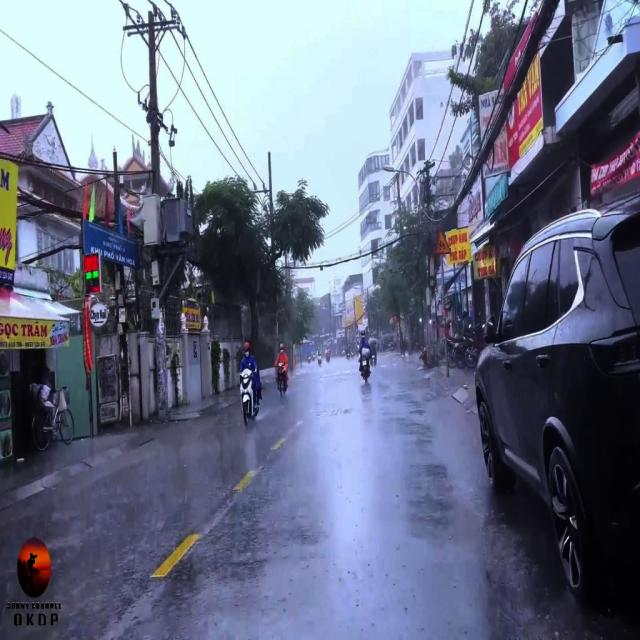chu_y_tre_em: (433, 228, 451, 254)
